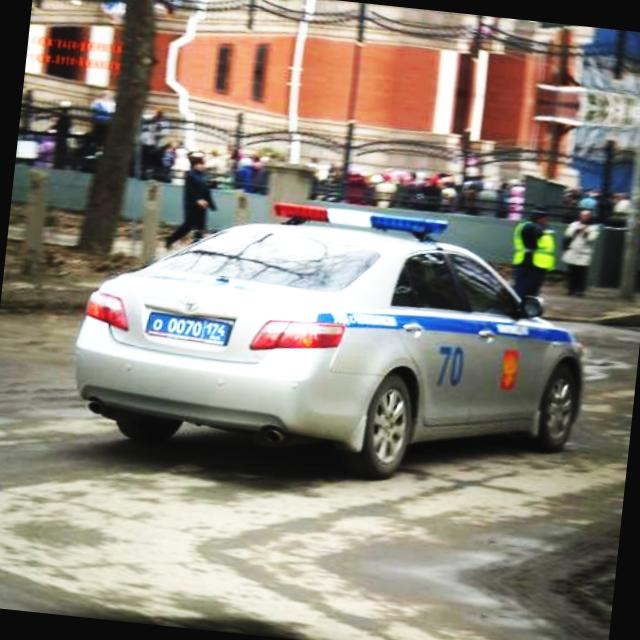police: (143, 307, 232, 345)
